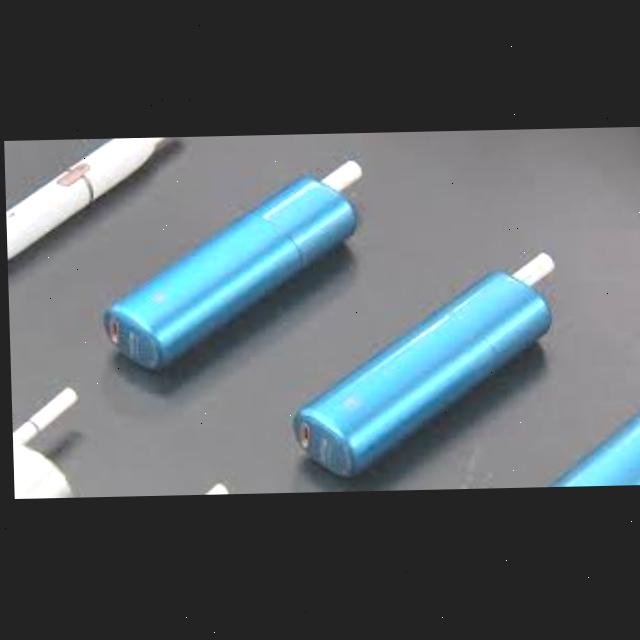vape: (286, 254, 559, 483), (96, 162, 366, 374), (4, 138, 166, 261)
